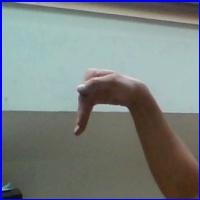del: (69, 64, 151, 141)
